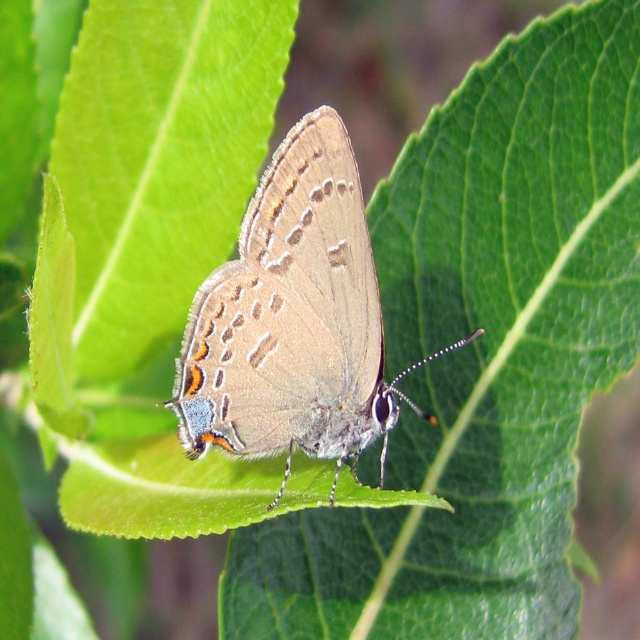Butterfly: (162, 100, 490, 514)
